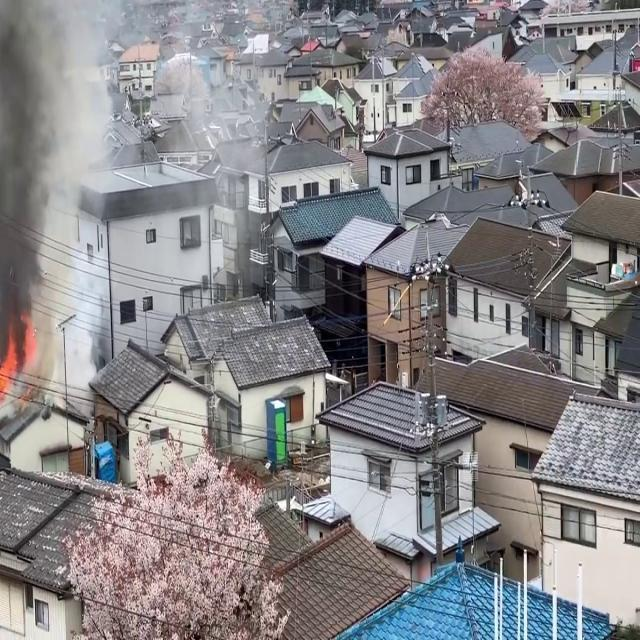Fire: (0, 328, 20, 406)
Smoke: (0, 0, 114, 398)
